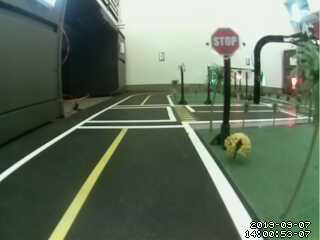Stop_Sign: (207, 19, 247, 56)
